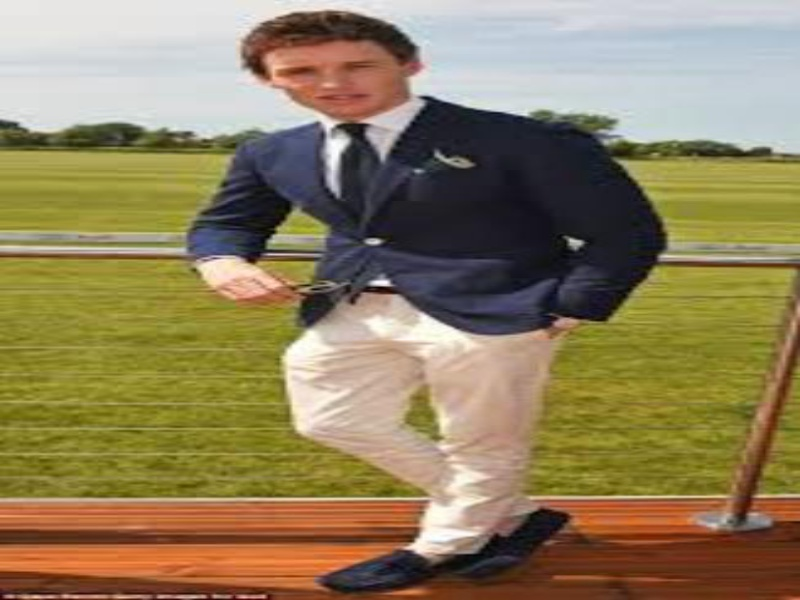TsisyArotava: (229, 1, 432, 138)
